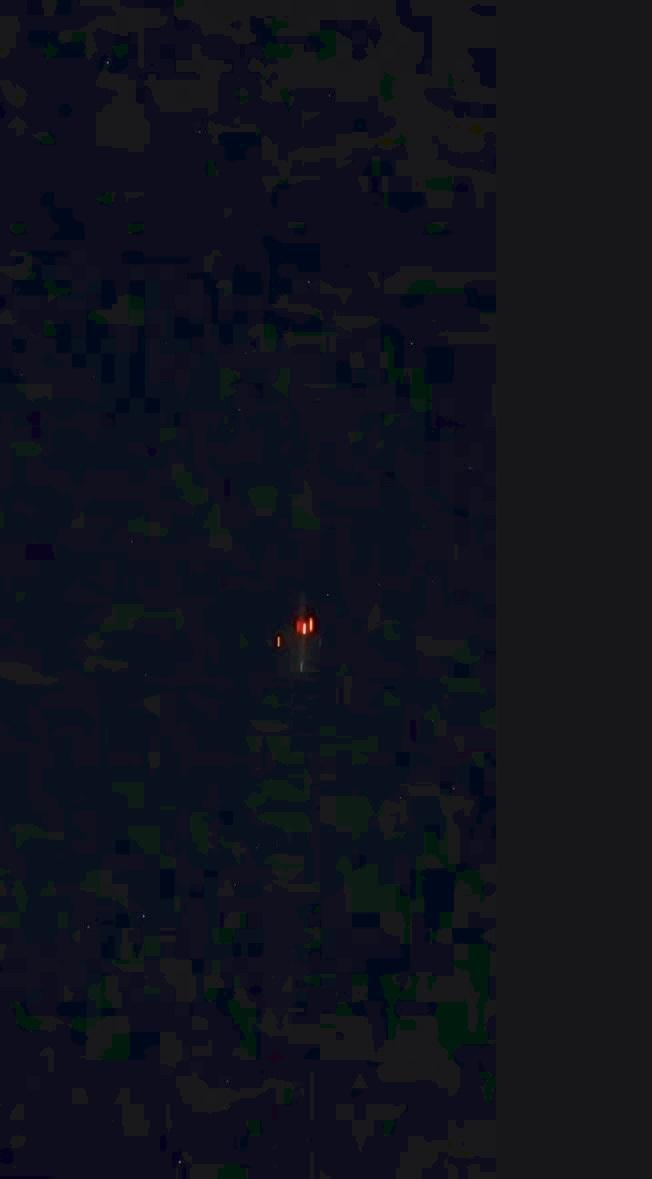Plane: (261, 571, 335, 690)
